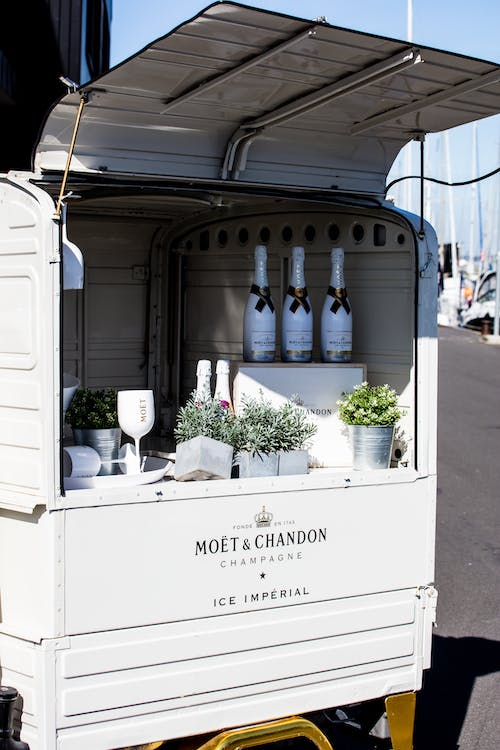alcohol: (240, 242, 278, 362), (278, 244, 314, 363), (318, 245, 354, 362), (212, 358, 234, 416), (192, 358, 213, 411)
